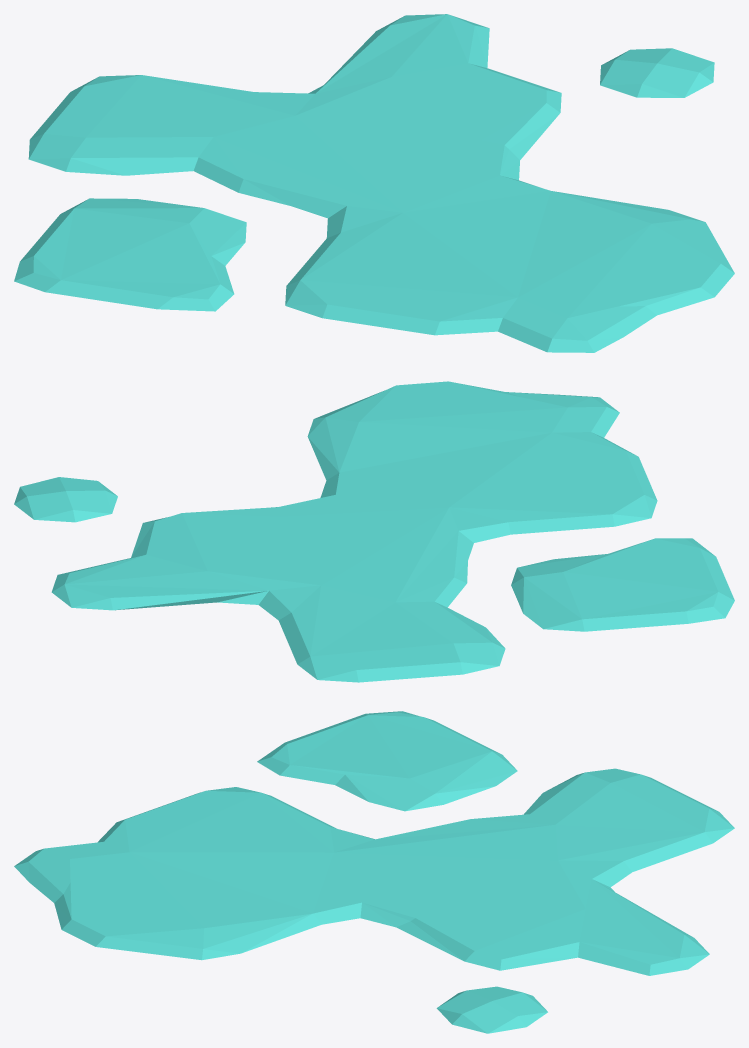
File: SM_Prop_Slime_Puddle_01.fbx
3 views of the same model, one above another, from view 1: azimuth 30°, elevation 25°; view 2: azimuth 150°, elevation 25°; view 3: azimuth 270°, elevation 25° (orthographic). The views are drawn at different scales.
Visible parts, largest first — view 1: SM_Prop_Slime_Puddle_01; view 2: SM_Prop_Slime_Puddle_01; view 3: SM_Prop_Slime_Puddle_01.
Part boxes in pixels (x1,y1,x2,y2): SM_Prop_Slime_Puddle_01: (14, 14, 734, 352); SM_Prop_Slime_Puddle_01: (14, 381, 734, 682); SM_Prop_Slime_Puddle_01: (14, 711, 734, 1033).
Bounding box in the file's own units: 87.94 × 1.29 × 82.81.
